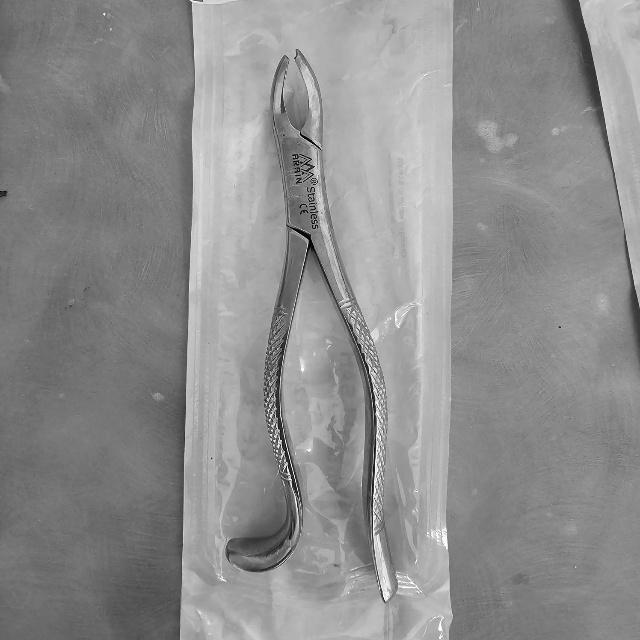forceps: (225, 50, 391, 602)
